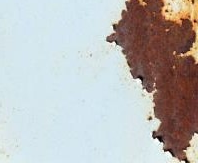Corrosion: (105, 1, 198, 163)
